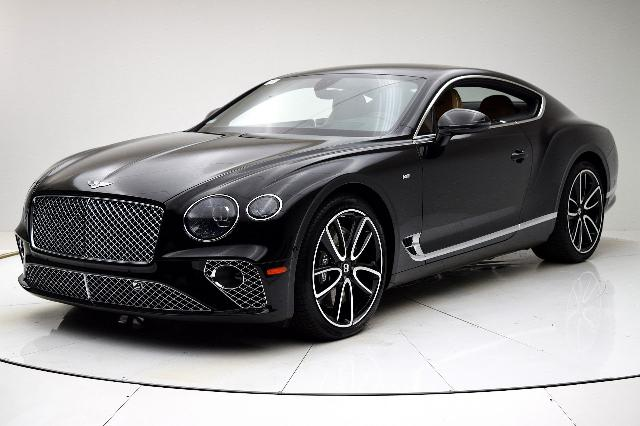bentley: (13, 62, 619, 340)
